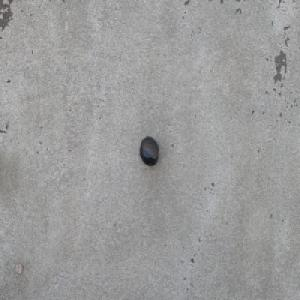FuelCap: (139, 135, 158, 166)
